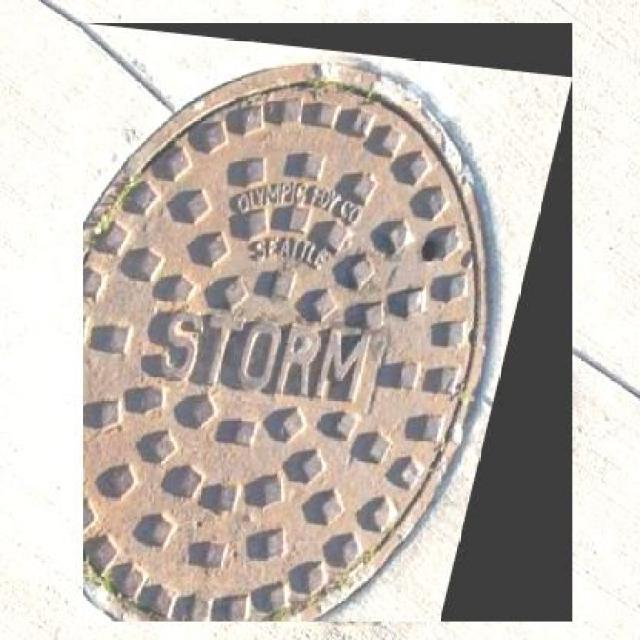Manhole: (83, 23, 572, 622)
